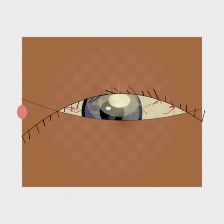corneal_ulcer: (85, 76, 151, 128)
